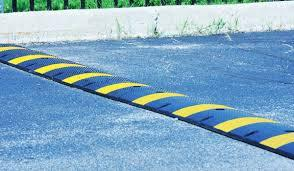Bump: (0, 42, 293, 161)
